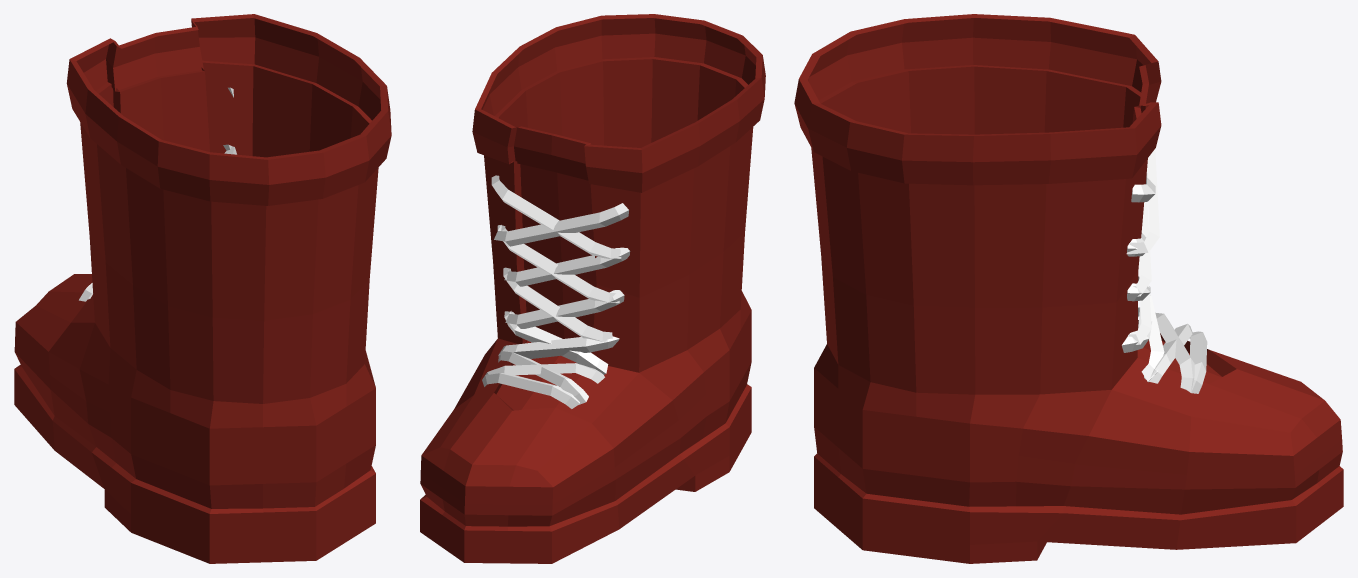
Rendered from laceupbootsright.fbx.
3 renders of one model, left to right at view 1: azimuth 30°, elevation 25°; view 2: azimuth 150°, elevation 25°; view 3: azimuth 270°, elevation 25°, orthographic. The views are drawn at different scales.
Parts seen in each view (by area): view 1: right; view 2: right; view 3: right.
Part boxes in pixels (box(x1,y1,x2,y2)): right: box(14, 14, 391, 563); right: box(420, 14, 765, 563); right: box(794, 14, 1343, 563).
Bounding box in the file's own units: 46.45 × 40.42 × 24.91.
